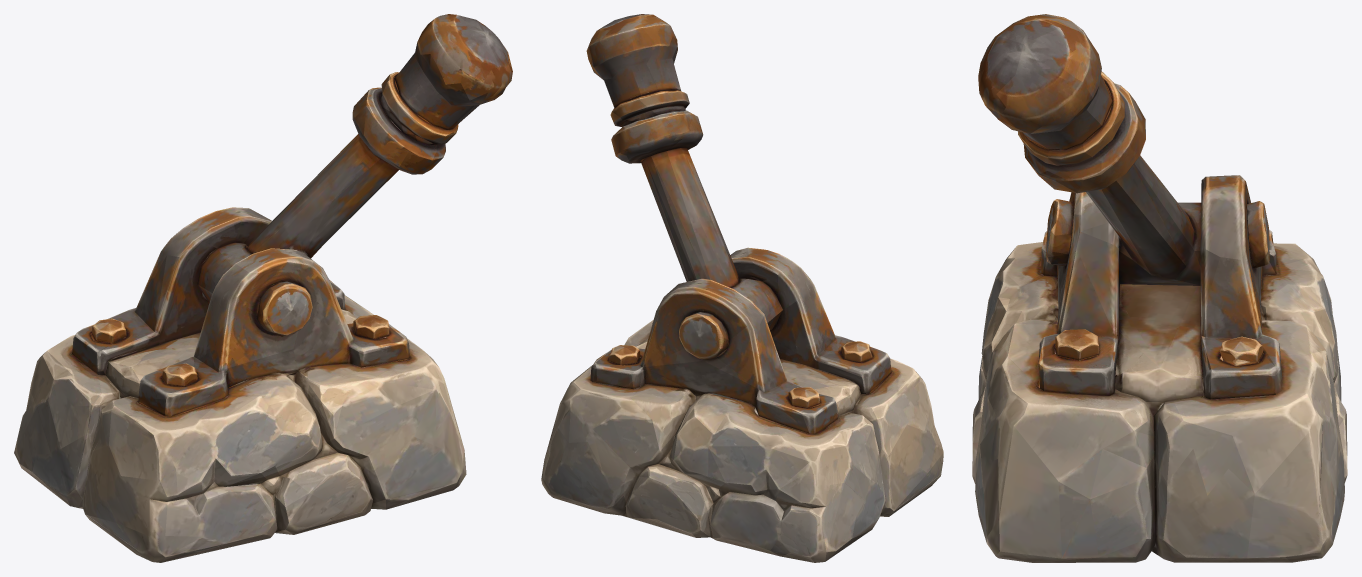
Rendered from floor-lever.hq.glb.
The picture shows the model from 3 angles, left to right: view 1: azimuth 30°, elevation 25°; view 2: azimuth 150°, elevation 25°; view 3: azimuth 270°, elevation 25°; orthographic projection. The views are drawn at different scales.
Visible parts, largest first — view 1: output_unwrapped; view 2: output_unwrapped; view 3: output_unwrapped.
Boxes of the visible parts, x1,y1,x2,y2 form: output_unwrapped: (14, 14, 512, 562); output_unwrapped: (541, 14, 943, 562); output_unwrapped: (972, 14, 1347, 562).
Bounding box in the file's own units: 1.68 × 1.9 × 1.18.
Materials: 1 (1 with a texture image).
